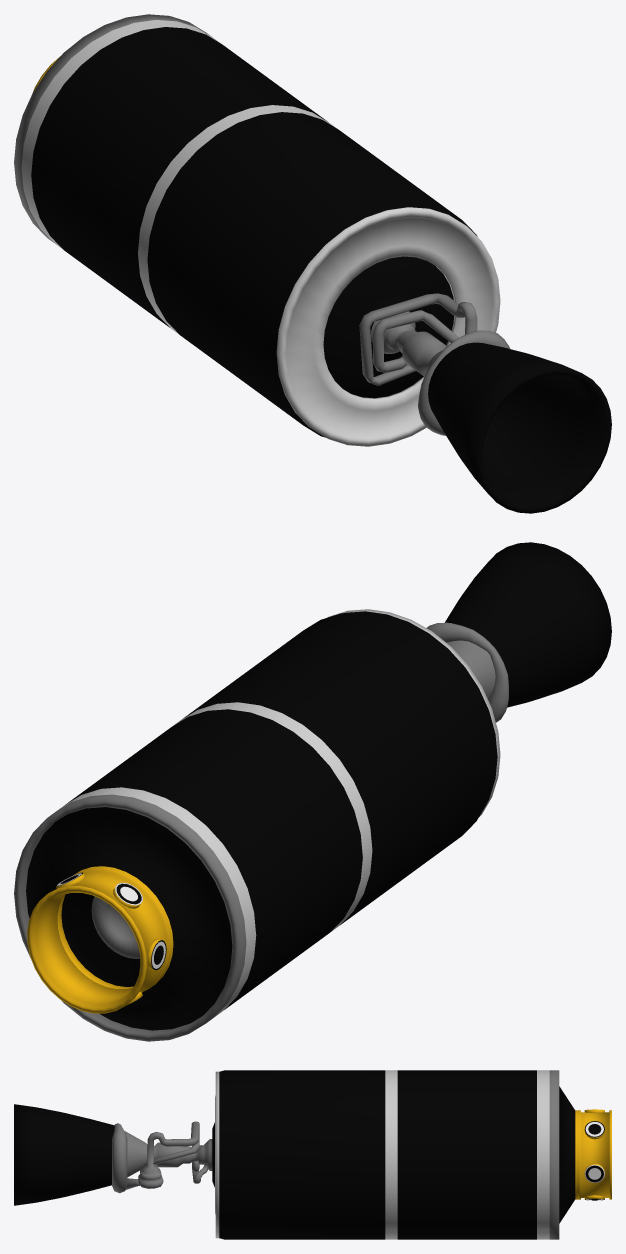
Rendered from firefly.fbx.
The picture shows the model from 3 angles, top to bottom: view 1: azimuth 30°, elevation 25°; view 2: azimuth 150°, elevation 25°; view 3: azimuth 270°, elevation 25°; orthographic projection. The views are drawn at different scales.
Visible parts, largest first — view 1: firefly_0; view 2: firefly_0; view 3: firefly_0.
Boxes of the visible parts, x1,y1,x2,y2 form: firefly_0: (14,14,611,513); firefly_0: (14,542,611,1041); firefly_0: (14,1070,611,1239).
Size of the model in its own units: 153 by 153 by 539.
